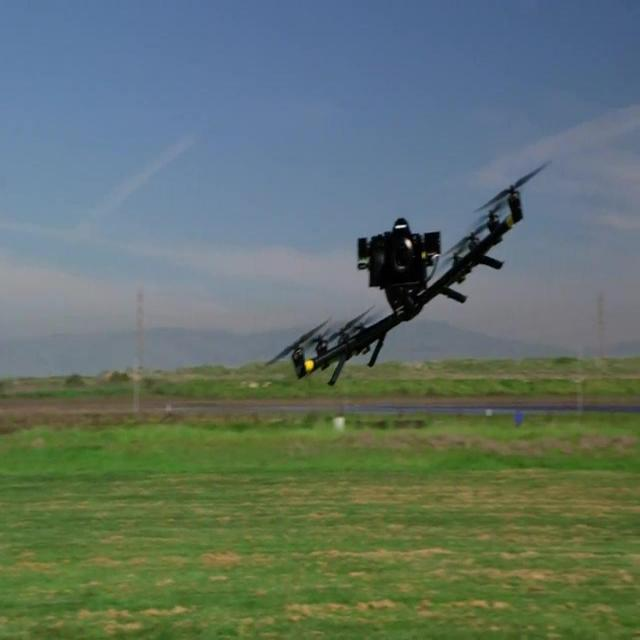UAV: (266, 162, 550, 386)
